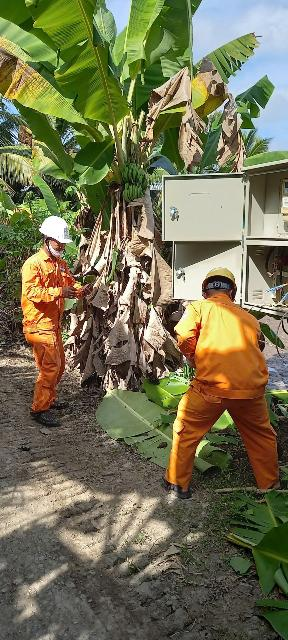helmet: (38, 208, 86, 262), (195, 257, 241, 293)
shoes: (153, 476, 198, 504), (29, 401, 68, 429), (48, 387, 68, 413)
